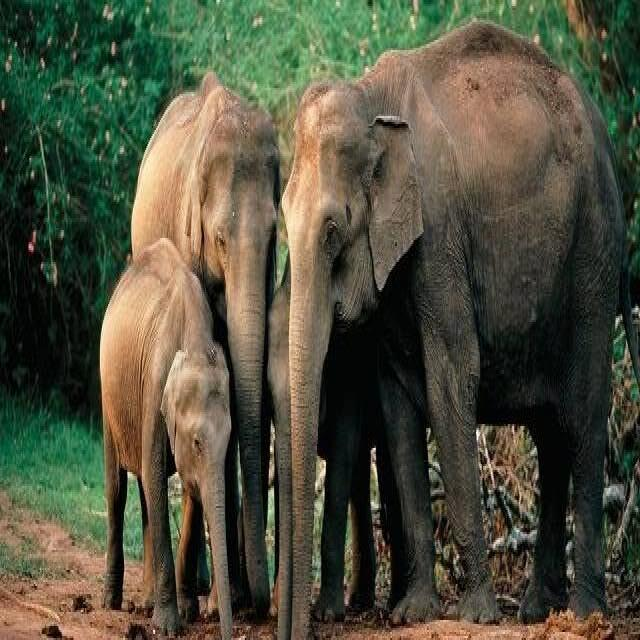Elephant: (281, 22, 640, 640), (129, 35, 276, 626), (93, 226, 233, 640)
